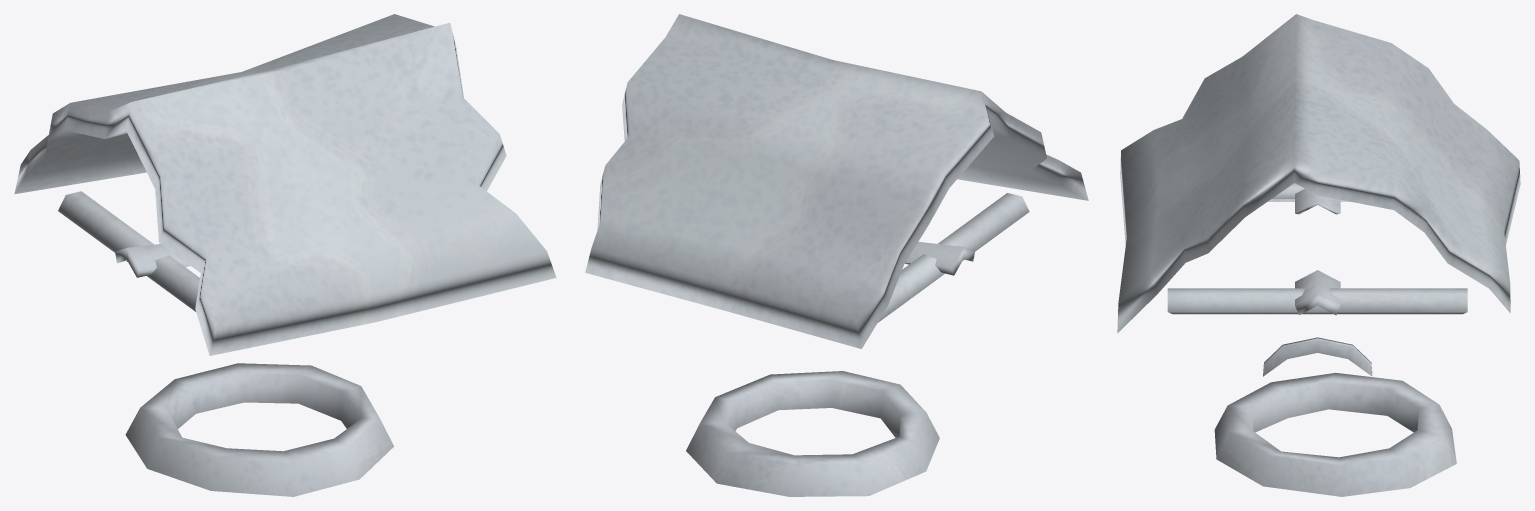
File: Well_Snow.fbx
3 views of the same model, side by side, from view 1: azimuth 30°, elevation 25°; view 2: azimuth 150°, elevation 25°; view 3: azimuth 270°, elevation 25° (orthographic). The views are drawn at different scales.
Visible parts, largest first — view 1: Well_Snow; view 2: Well_Snow; view 3: Well_Snow.
Part boxes in pixels (box(x1,y1,x2,y2)): Well_Snow: box(14, 14, 556, 496); Well_Snow: box(585, 14, 1088, 496); Well_Snow: box(1117, 14, 1520, 496).
Bounding box in the file's own units: 289 × 313 × 312.
